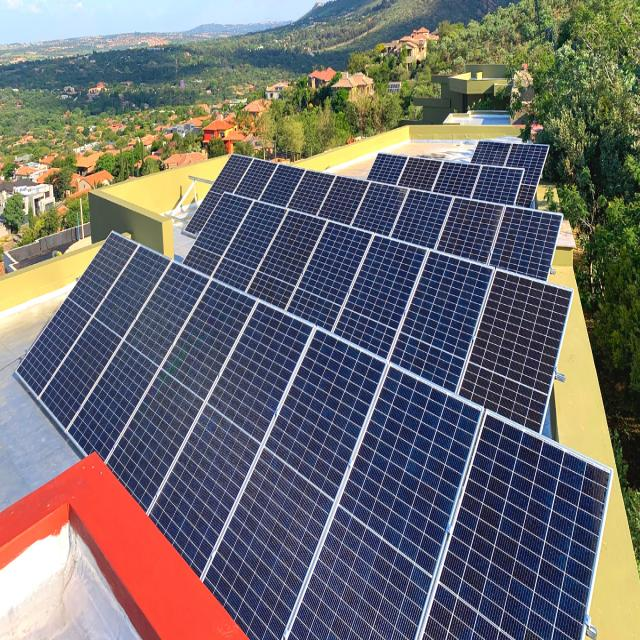clean-solar-panel: (18, 142, 610, 638)
